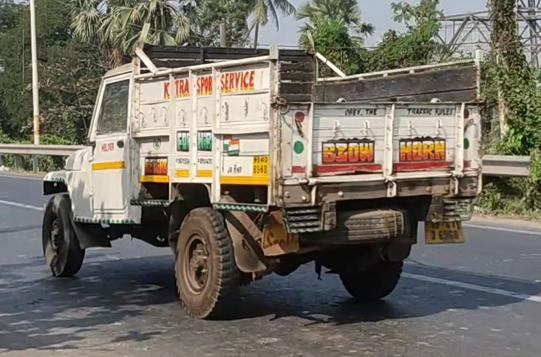Truck: (39, 42, 497, 321)
